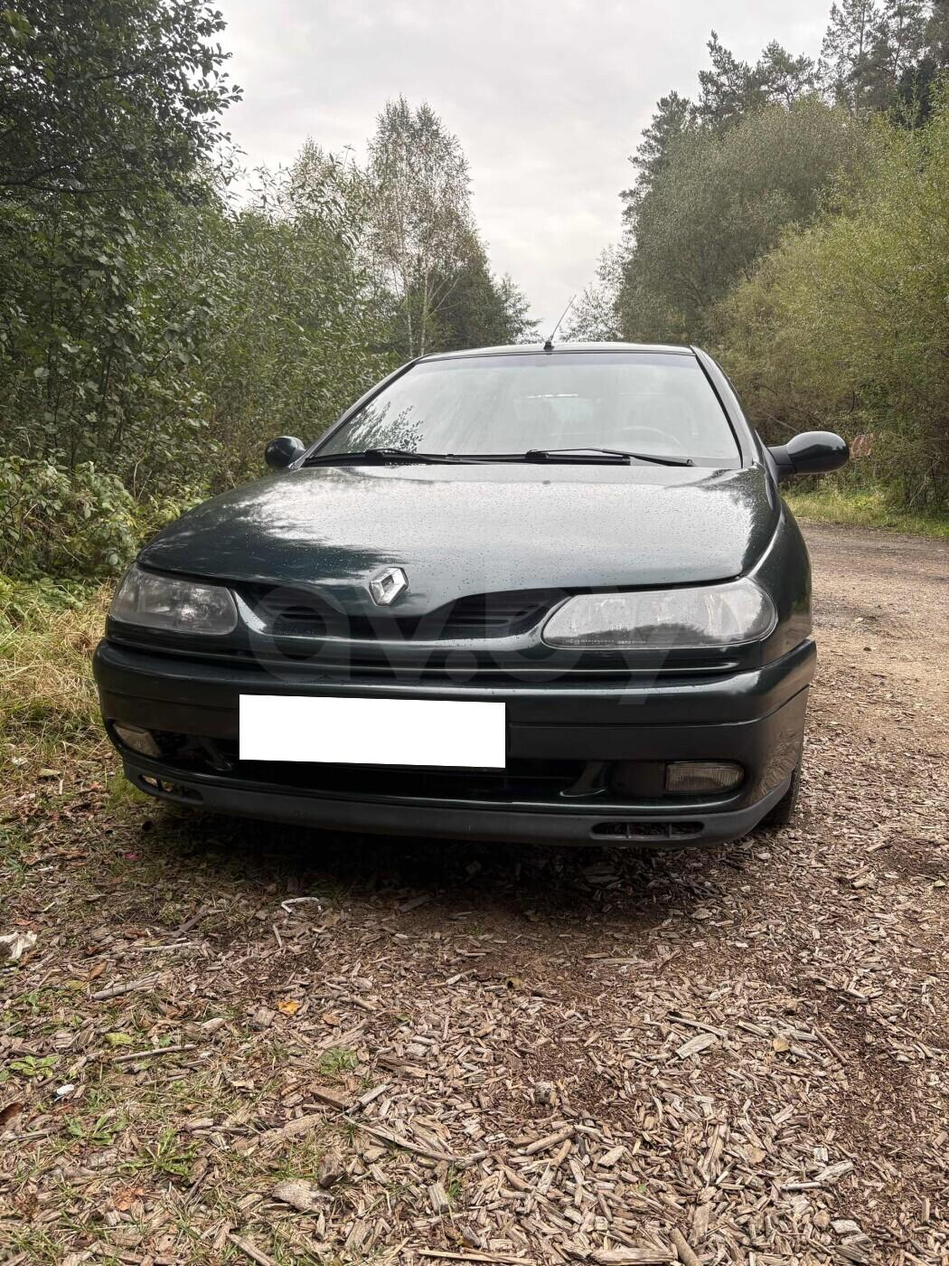Lahuna_1993-1999: (78, 326, 853, 881)
